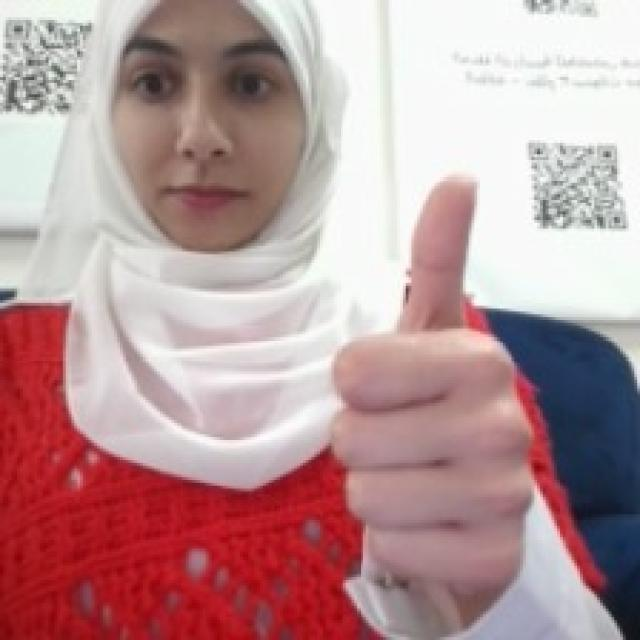fine: (323, 163, 528, 566)
